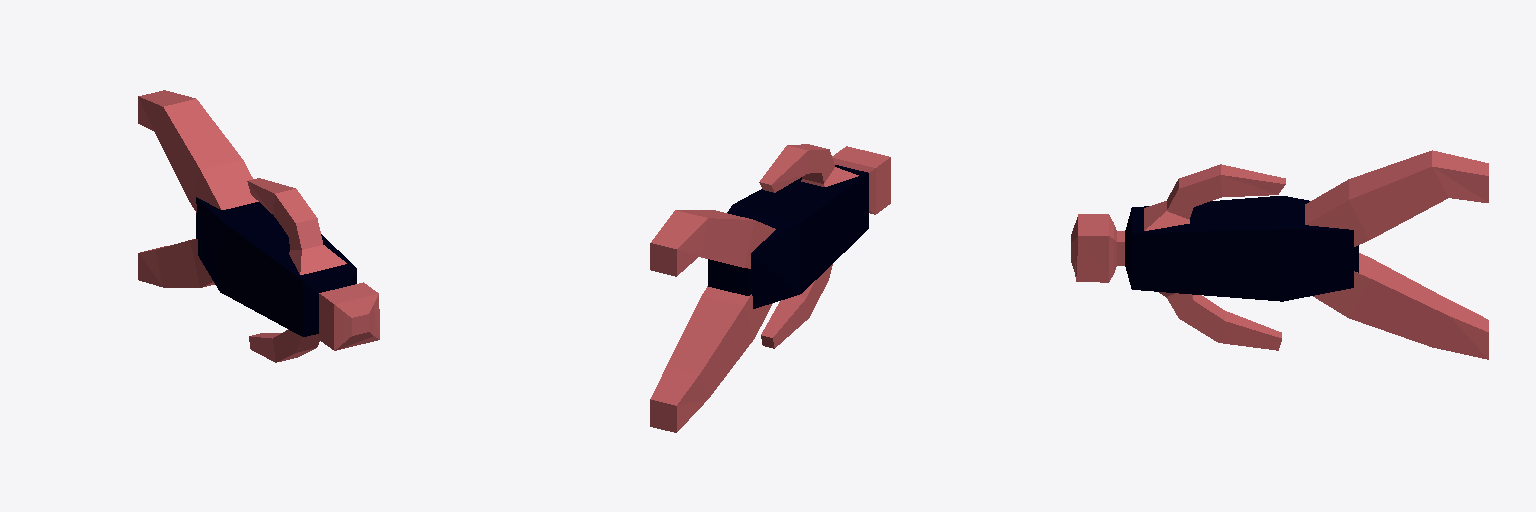
Rendered from homme.obj.
3 views of the same model, side by side, from view 1: azimuth 30°, elevation 25°; view 2: azimuth 150°, elevation 25°; view 3: azimuth 270°, elevation 25° (orthographic).
Parts seen in each view (by area): view 1: Cube_Cube.001; view 2: Cube_Cube.001; view 3: Cube_Cube.001.
Part boxes in pixels (left/top/right/bottom): Cube_Cube.001: left=138, top=90, right=379, bottom=362; Cube_Cube.001: left=650, top=144, right=890, bottom=432; Cube_Cube.001: left=1071, top=150, right=1488, bottom=359.
Bounding box in the file's own units: 1.28 × 3.46 × 6.71.